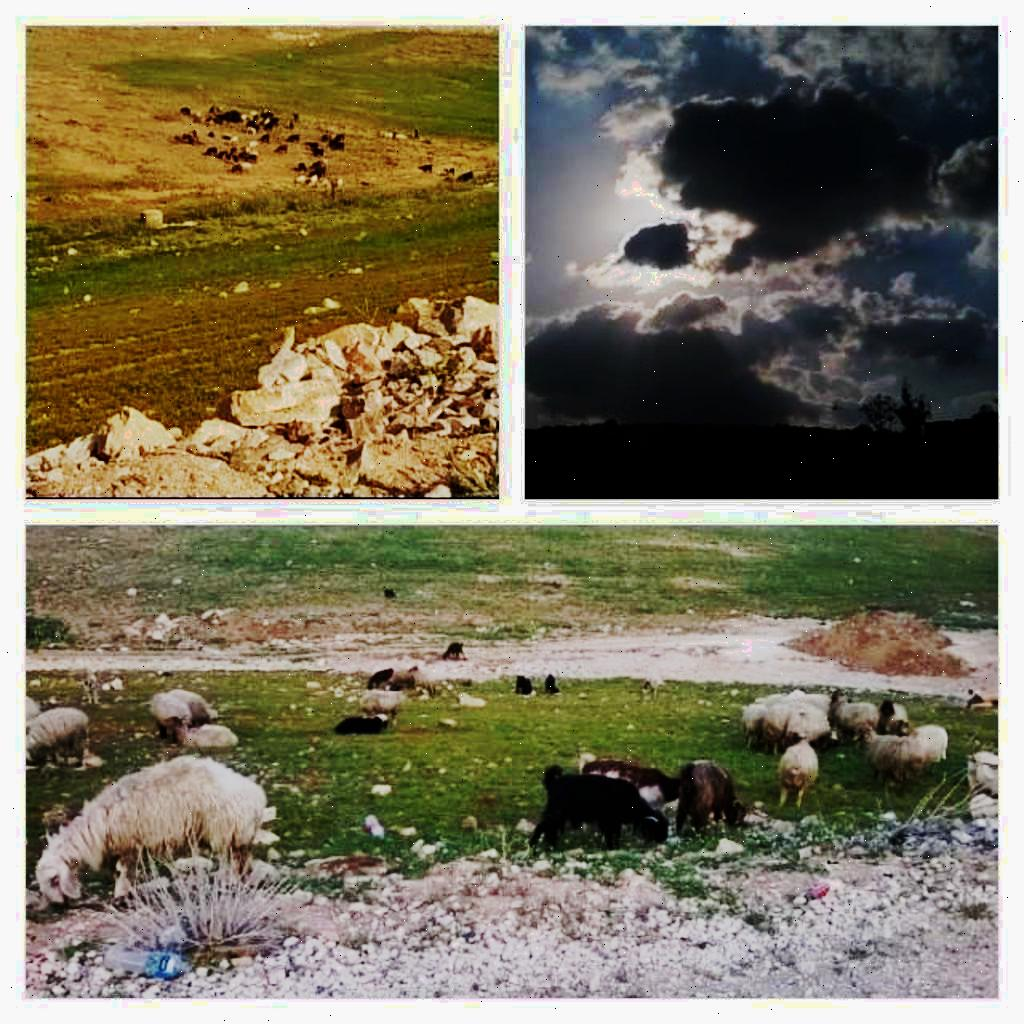Sheep: (36, 754, 264, 928), (835, 714, 927, 782), (755, 720, 823, 810), (22, 712, 94, 771), (168, 714, 235, 758), (148, 693, 190, 736), (170, 683, 216, 720), (336, 712, 390, 736), (363, 690, 408, 712), (411, 670, 437, 696), (372, 666, 414, 682)
